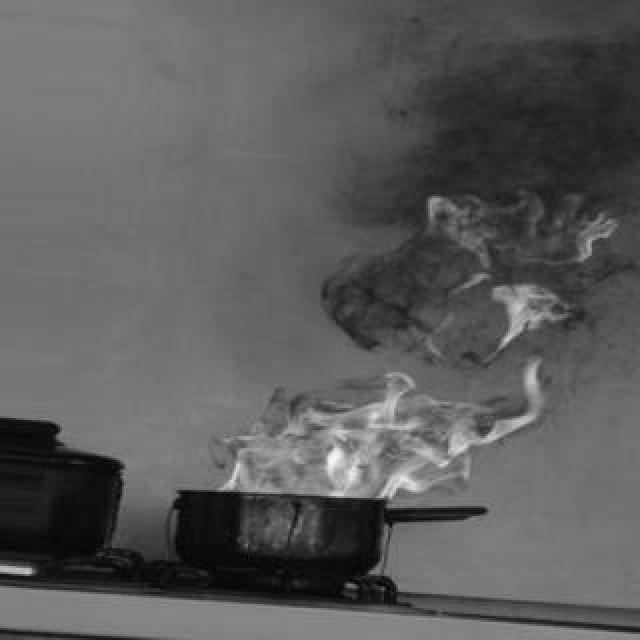Fire: (214, 368, 548, 496), (428, 184, 618, 338)
Smoke: (340, 4, 634, 212), (306, 236, 428, 354)
